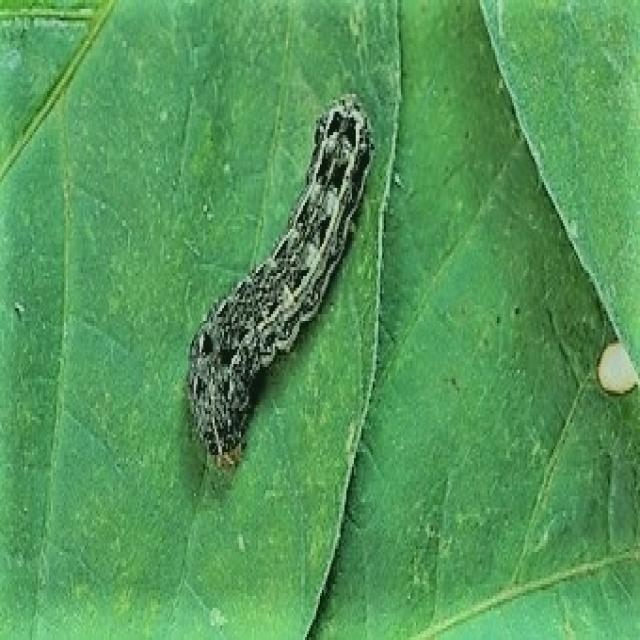armyworm: (184, 91, 374, 473)
